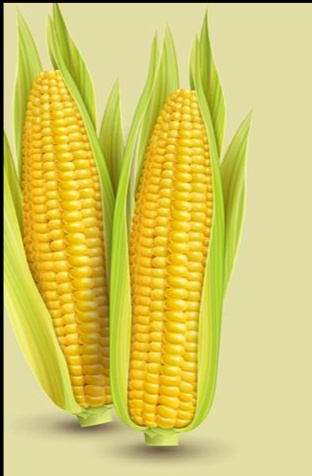corn: (8, 30, 128, 431), (113, 54, 228, 443)
